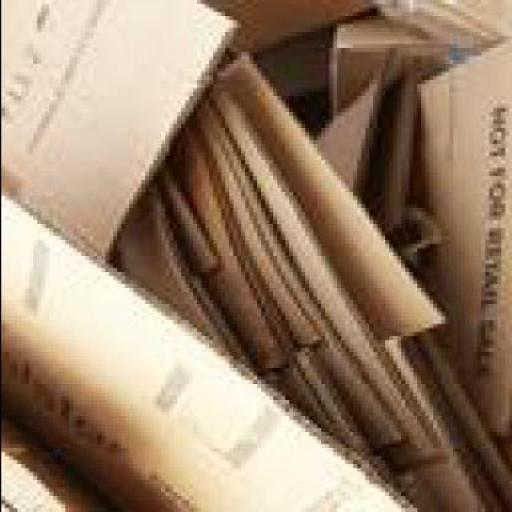cardboard: (1, 203, 425, 511), (196, 96, 452, 473), (188, 96, 416, 436), (212, 52, 440, 340), (1, 2, 233, 261), (160, 124, 345, 444), (408, 44, 508, 432), (108, 192, 256, 368), (392, 336, 508, 511), (320, 20, 441, 120), (216, 4, 372, 56)
